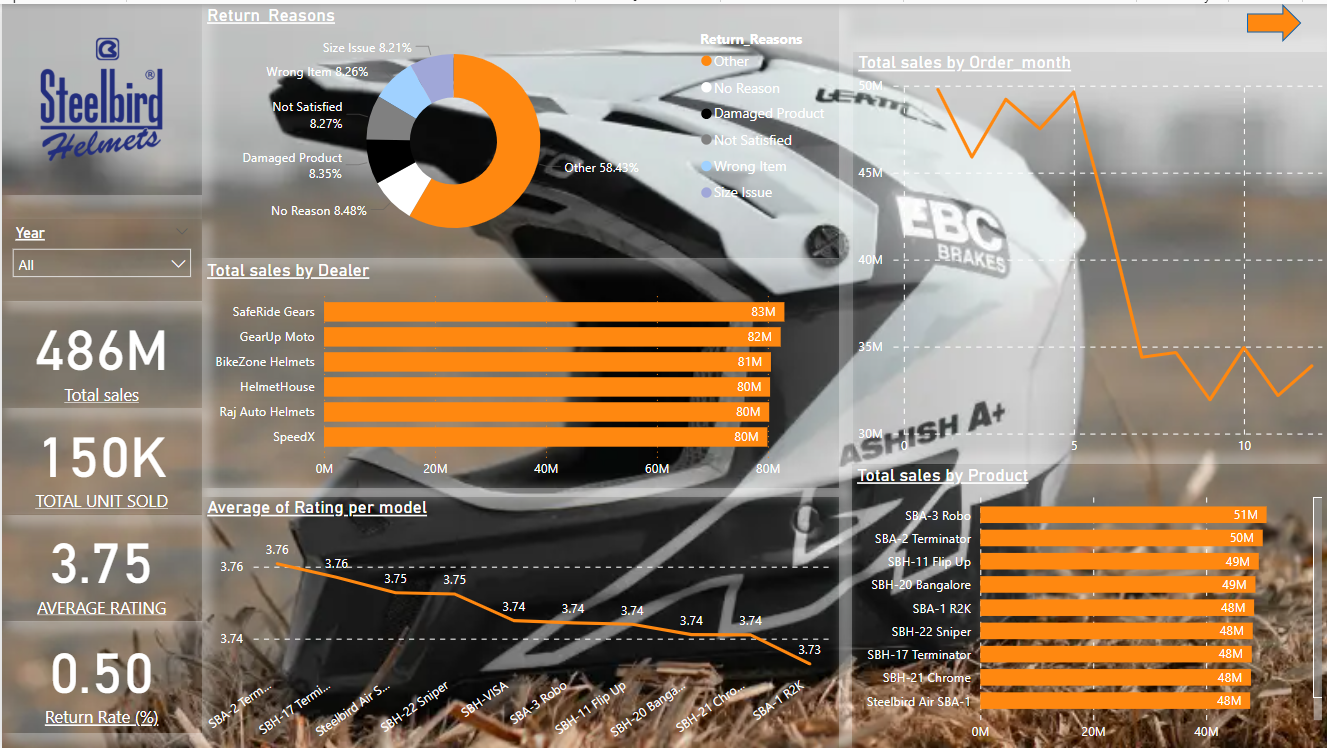

The dashboard page shown, as its layout file describes it:
{"tool":"powerbi","page":{"name":"Page 1","canvas":[1280,720],"ordinal":0},"visuals":[{"type":"barChart","title":"Total sales by Dealer","fields":{"Y":["mesaurestbl.Total sales"],"Category":["Steelbird_Helmet_Sales_50000.Dealer_Name"]},"box":[192.6,245.6,614.7,220.6],"z":0},{"type":"lineChart","fields":{"Y":["mesaurestbl.Total sales"],"Category":["Steelbird_Helmet_Sales_50000.Order_month"]},"box":[821.1,45.3,457.9,398.9],"z":1000},{"type":"clusteredBarChart","title":"Total sales by Product","fields":{"Category":["Steelbird_Helmet_Sales_50000.Product_Name"],"Y":["mesaurestbl.Total sales"]},"box":[820.6,444.1,458.8,276.5],"z":2000},{"type":"lineChart","title":"Average of Rating per model","fields":{"Category":["Steelbird_Helmet_Sales_50000.Product_Name"],"Y":["Avg(Steelbird_Helmet_Sales_50000.Rating)"]},"box":[192.7,475.6,614.6,245.1],"z":3000},{"type":"donutChart","title":"Return_Reasons","fields":{"Y":["CountNonNull(Steelbird_Helmet_Sales_50000.Return_Reason)"],"Category":["Steelbird_Helmet_Sales_50000.Return_Reason"]},"box":[192.6,0,614.7,245.6],"z":4000},{"type":"card","fields":{"Values":["Sum(Steelbird_Helmet_Sales_50000.Units_Sold)"]},"box":[0,389.7,192.6,102.9],"z":5000},{"type":"card","fields":{"Values":["Avg(Steelbird_Helmet_Sales_50000.Rating)"]},"box":[0,492.6,192.6,102.9],"z":6000},{"type":"card","fields":{"Values":["mesaurestbl.Total sales"]},"box":[0,286.8,192.6,102.9],"z":7000},{"type":"card","fields":{"Values":["mesaurestbl.Return Rate (%)"]},"box":[0,595.6,192.6,107.4],"z":8000},{"type":"slicer","fields":{"Values":["Steelbird_Helmet_Sales_50000.Year"]},"box":[0,207.4,192.6,79.4],"z":9000},{"type":"image","box":[0,0,192.6,183.8],"z":10000},{"type":"shape","box":[1201.2,0,52.4,36.6],"z":11000}]}

Visuals, with their boxes in screenshot pixels (x1, y1, x2, y2), scaled from the page's 1280x720 canvas onto the 1327x748 screenshot:
"Total sales by Dealer" barChart: [200,255,837,484]
lineChart - mesaurestbl.Total sales x Steelbird_Helmet_Sales_50000.Order_month: [851,47,1326,461]
"Total sales by Product" clusteredBarChart: [851,461,1326,747]
"Average of Rating per model" lineChart: [200,494,837,747]
"Return_Reasons" donutChart: [200,0,837,255]
card - Sum(Steelbird_Helmet_Sales_50000.Units_Sold): [0,405,200,512]
card - Avg(Steelbird_Helmet_Sales_50000.Rating): [0,512,200,619]
card - mesaurestbl.Total sales: [0,298,200,405]
card - mesaurestbl.Return Rate (%): [0,619,200,730]
slicer - Steelbird_Helmet_Sales_50000.Year: [0,215,200,298]
image: [0,0,200,191]
shape: [1245,0,1300,38]
